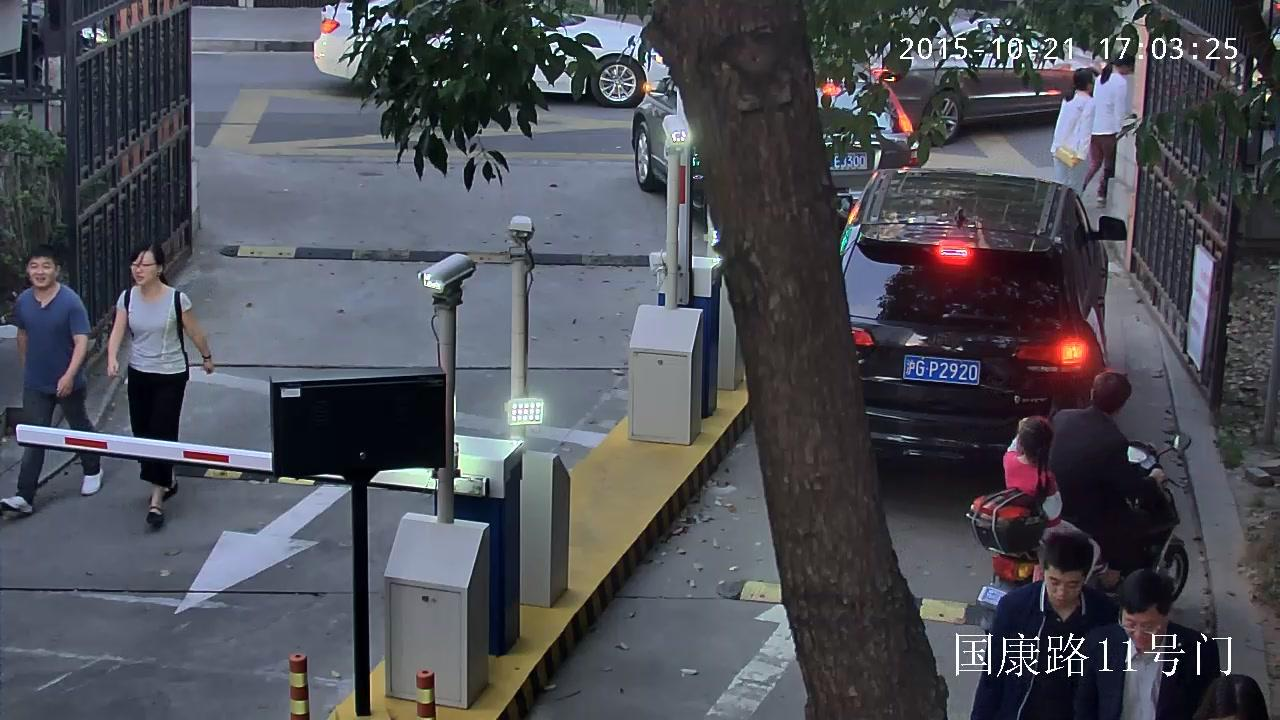person: (959, 370, 1216, 639), (104, 244, 215, 528), (970, 529, 1118, 720), (0, 245, 104, 514), (1049, 370, 1166, 569), (1075, 568, 1219, 720), (1003, 416, 1122, 587), (1082, 52, 1134, 208), (1050, 69, 1097, 198)
